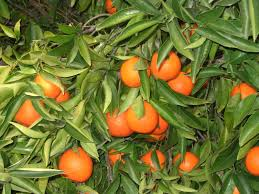orange: (60, 146, 94, 183), (127, 100, 161, 134), (13, 95, 49, 126), (105, 102, 134, 138), (118, 56, 151, 87), (148, 50, 182, 80), (31, 69, 62, 99)
